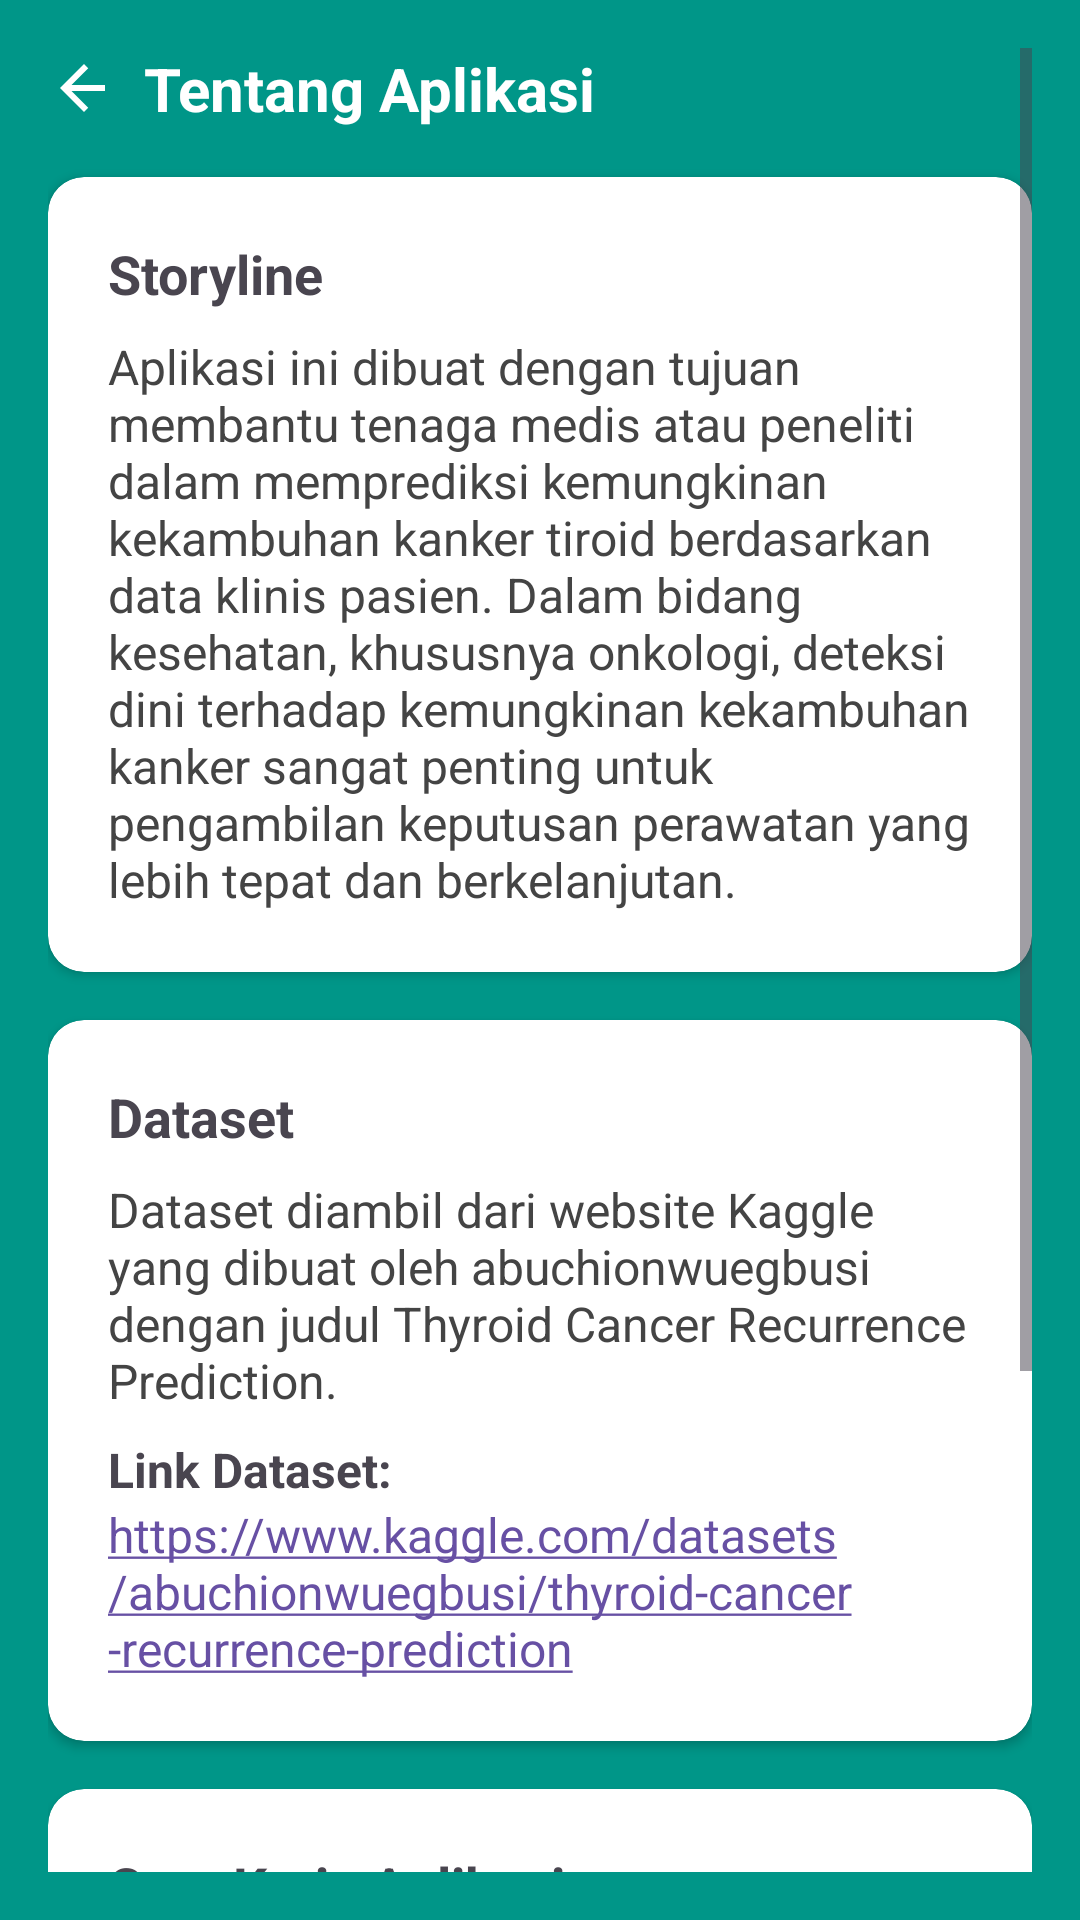

Icon bounding boxes for this 1080x1920 phone screenshot, format (x1, y1, x2, y2):
Kembali: (60, 64, 105, 112)
